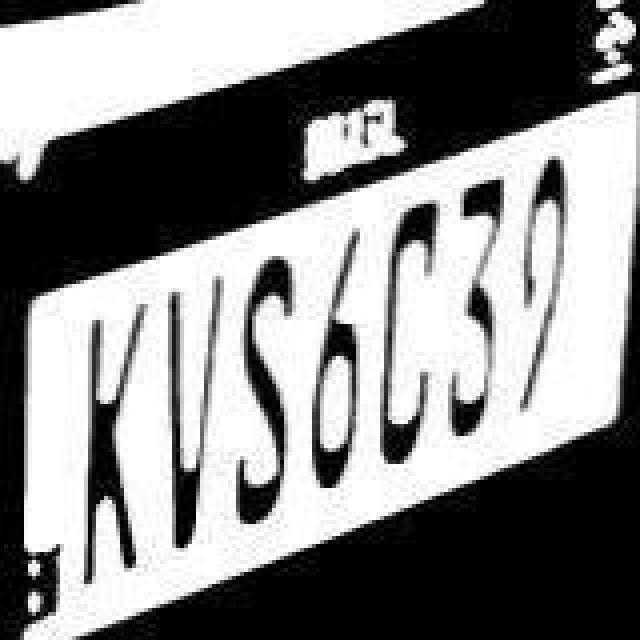3: (448, 160, 508, 432)
6: (314, 210, 370, 494)
9: (516, 140, 576, 412)
C: (384, 190, 444, 466)
K: (84, 292, 144, 588)
S: (232, 240, 316, 520)
V: (158, 276, 230, 556)
